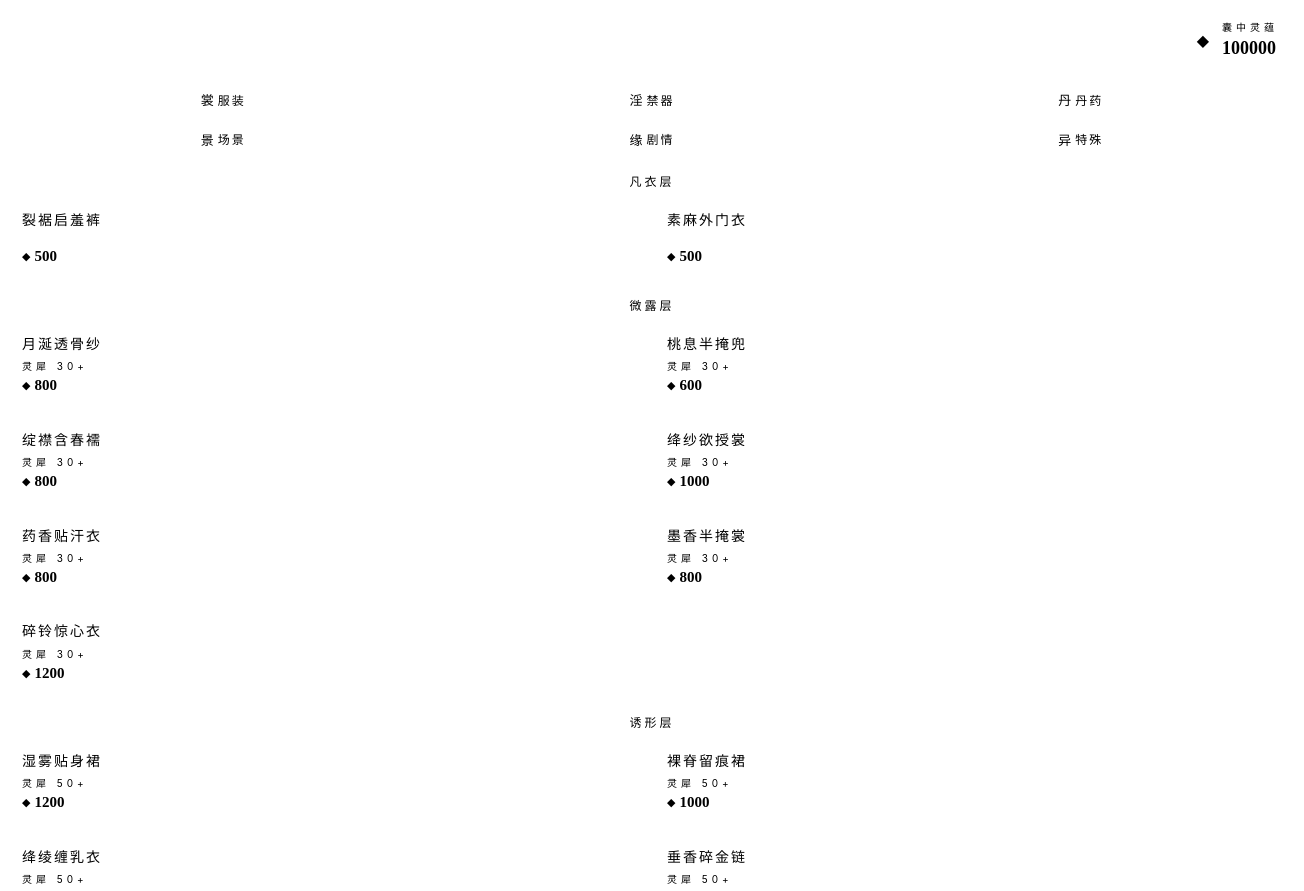
Scenario: ShopPage › 灵石充足时物品可购买
# 切换到禁器分类查看铃铛项圈 (价格500, 门槛0)
Click the button with class "tab-btn" showing "淫 禁器" at (652, 101), box left=441, top=84, right=863, bottom=118
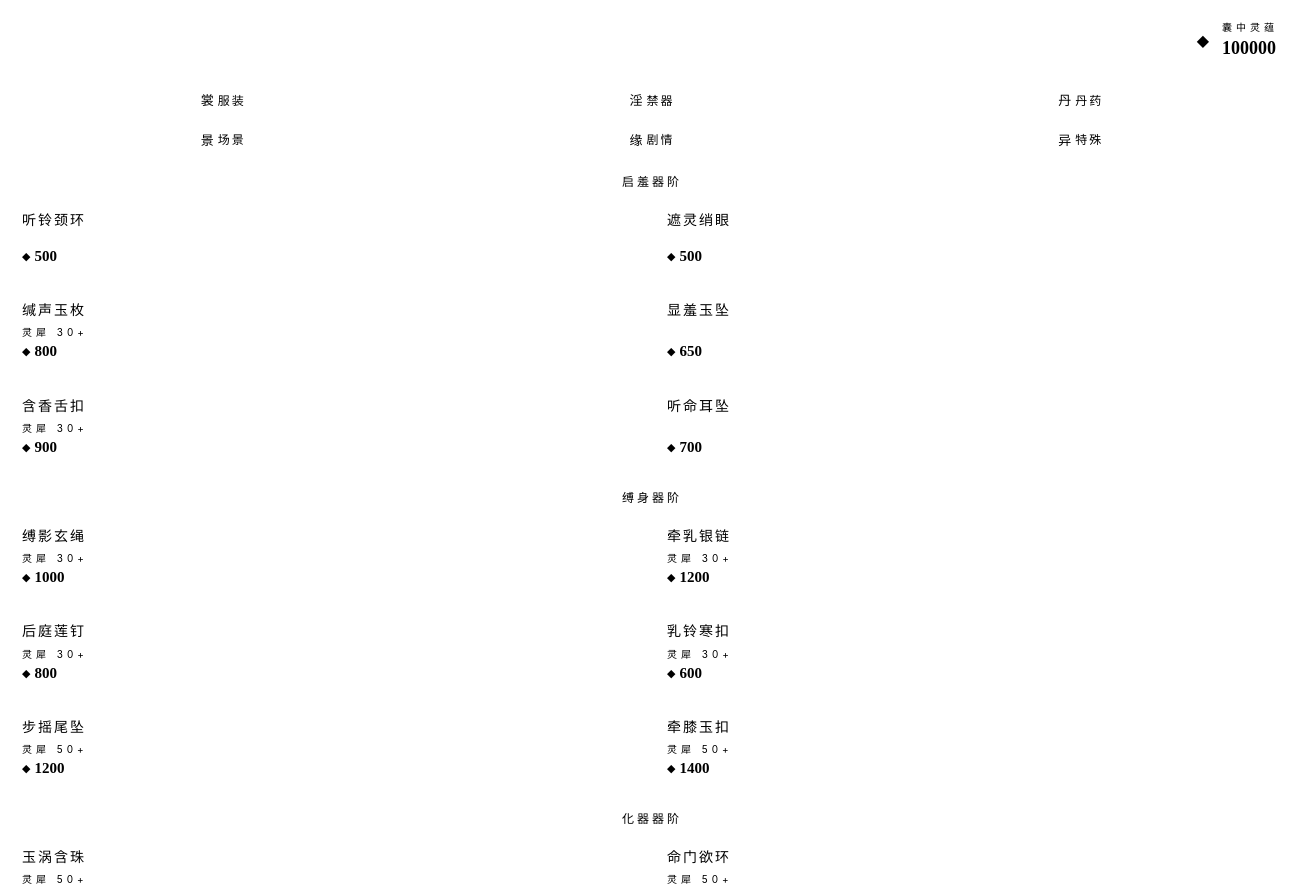
Result: the element with class "item-card" showing "听铃颈环 ◆ 500" is shown at left=22, top=213, right=86, bottom=264
